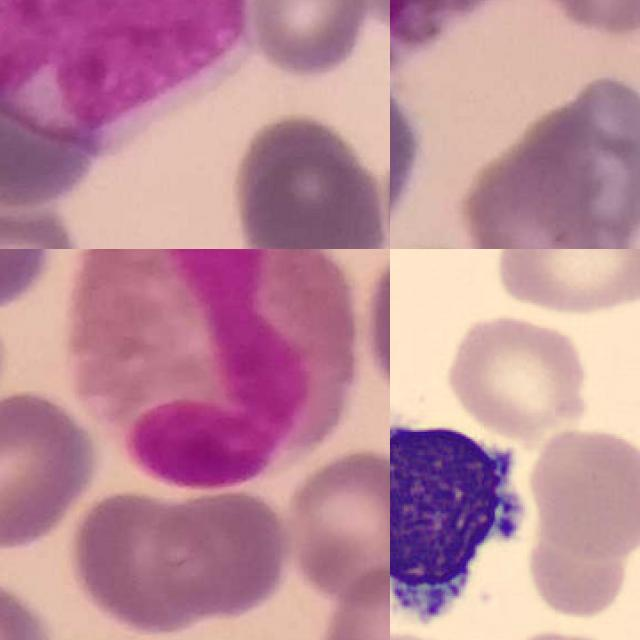Eosinophil: (68, 249, 356, 488)
Lymphocyte: (390, 401, 537, 636)
Monocyte: (0, 0, 271, 143)
RBC: (440, 310, 594, 439), (525, 425, 640, 559), (489, 249, 640, 319)
